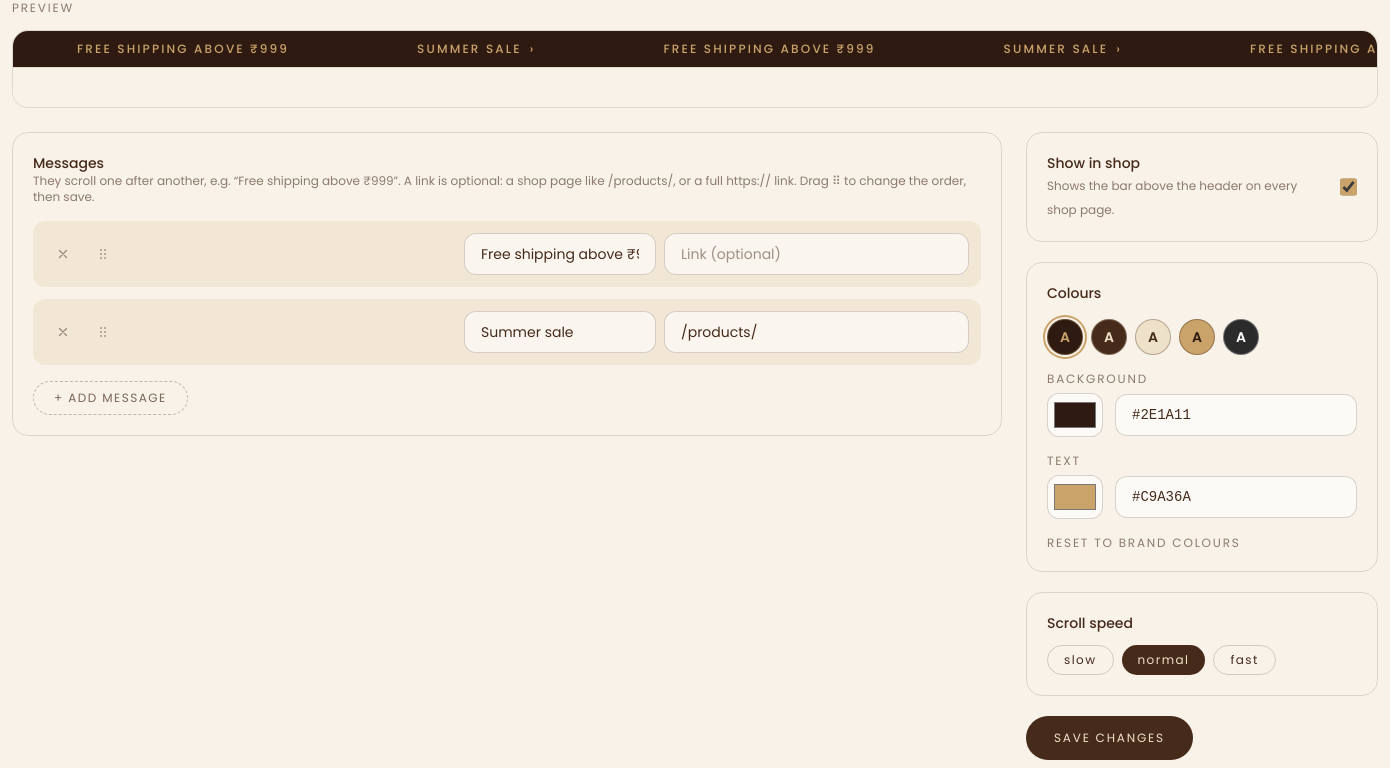
Test: AnnouncementForm › a link must be a shop page or https://
This screenshot has width=1390, height=768.
Replace the text in the field named "Link for message 2" with "www.example.com". click: {"x": 816, "y": 332}
box: [664,311,969,353]
(page scrolled)
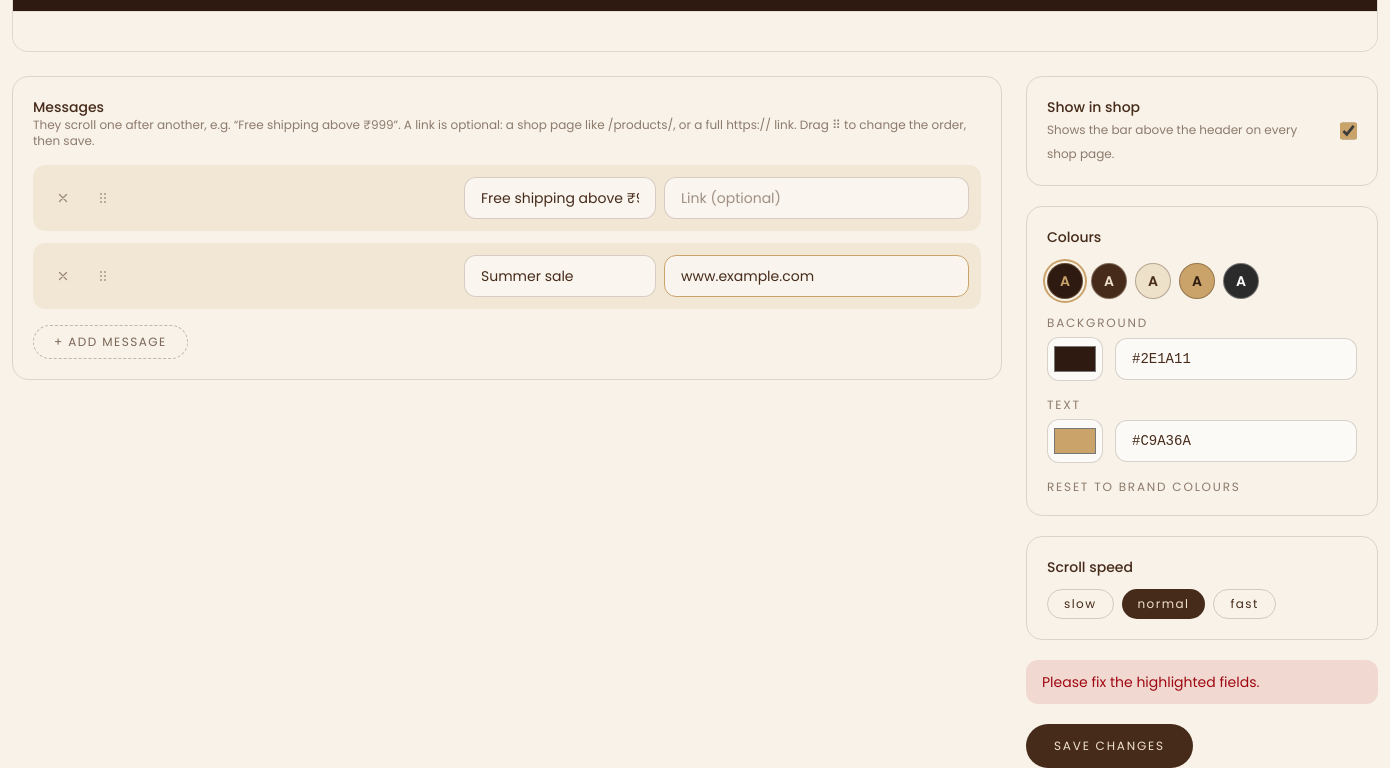
Click the button "Save changes". click: {"x": 1109, "y": 746}
box: [1026,724,1193,767]
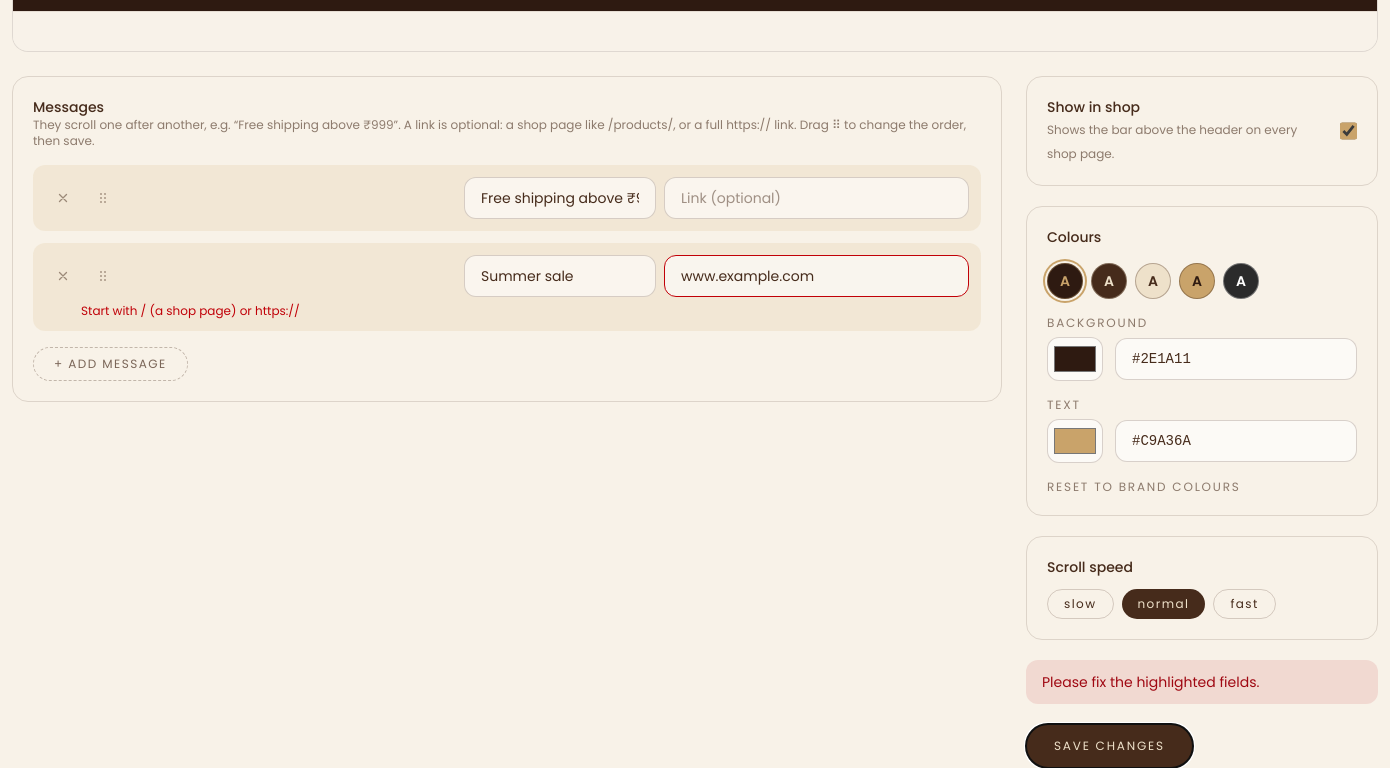
Expected: the text "Start with / (a shop page) or https://" is shown, [81,302,300,319]
